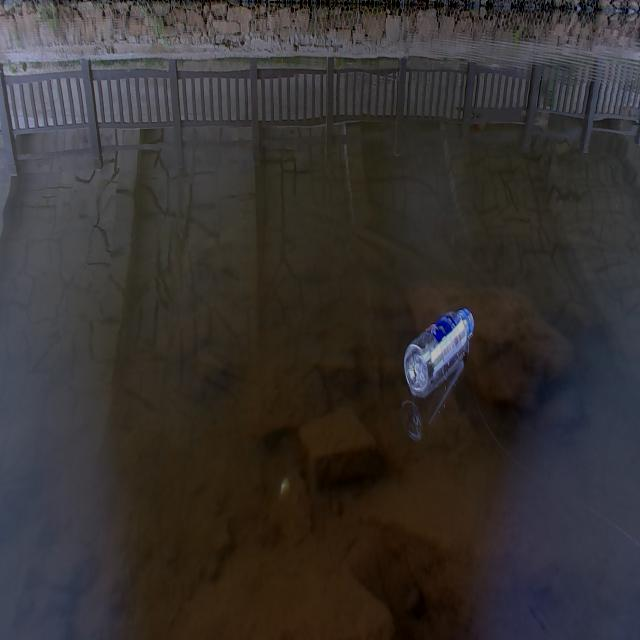bottle: (391, 271, 492, 421)
